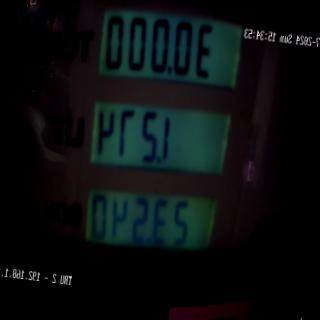screen: (65, 0, 252, 287)
